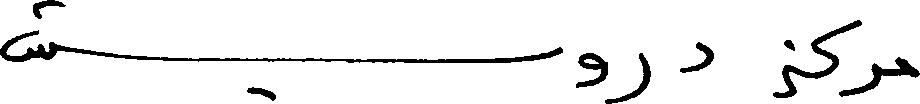X: (0, 0, 55, 66), (813, 16, 854, 101), (856, 15, 880, 98), (615, 48, 651, 103), (578, 48, 606, 103), (775, 35, 796, 102), (681, 37, 711, 77), (897, 52, 919, 82), (554, 42, 562, 60)
